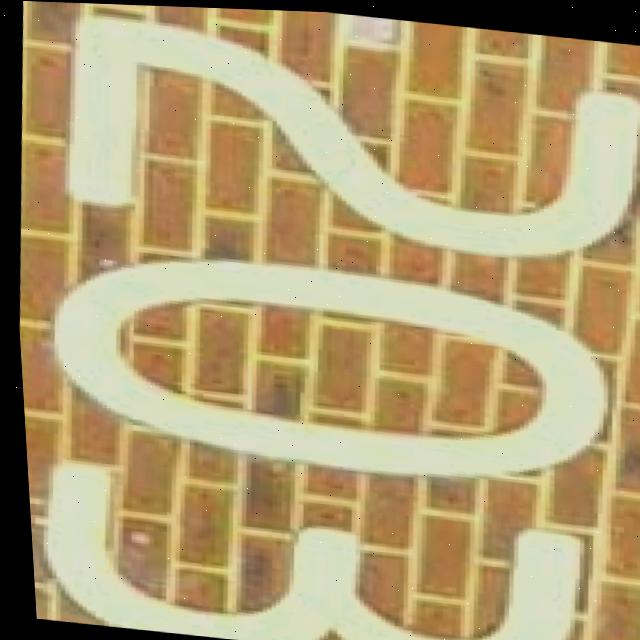character: (39, 3, 640, 279), (30, 234, 625, 500), (28, 450, 605, 640)
